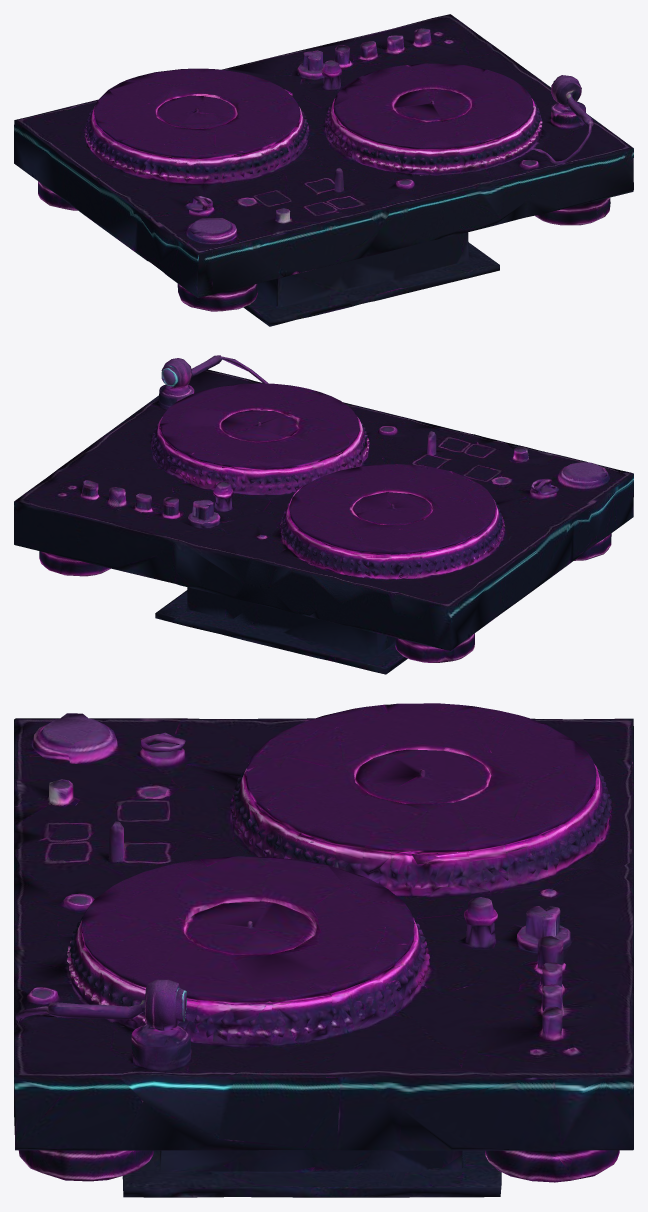
File: bhTurntable.691cc740.glb
3 renders of one model, top to bottom at view 1: azimuth 30°, elevation 25°; view 2: azimuth 150°, elevation 25°; view 3: azimuth 270°, elevation 25°, orthographic. The views are drawn at different scales.
Bounding box in the file's own units: 1.9 × 0.6936 × 1.39.
Materials: 1 (1 with a texture image).
